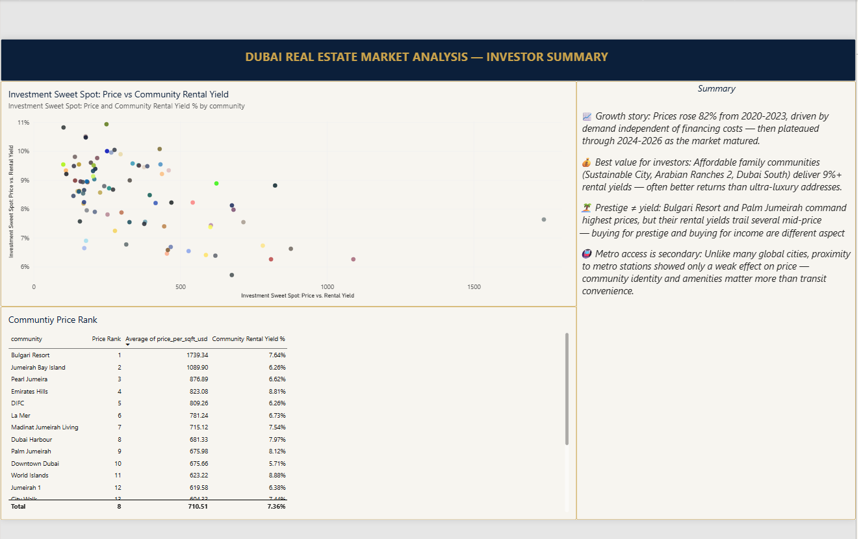

The dashboard page shown, as its layout file describes it:
{"tool":"powerbi","page":{"name":"Investor Summary.","canvas":[1920,1080],"ordinal":3},"visuals":[{"type":"scatterChart","title":"Investment Sweet Spot: Price vs Community Rental  Yield","fields":{"Series":["dim_community.community"],"X":["Avg(fact_listings.price_per_sqft_usd)"],"Y":["fact_listings.Community Rental Yield %"]},"box":[0,0,1292.6,601.1],"z":0},{"type":"tableEx","title":"Communtiy Price Rank","fields":{"Values":["dim_community.community","fact_listings.Community Price Rank","Avg(fact_listings.price_per_sqft_usd)","fact_listings.Community Rental Yield %"]},"box":[0,601.1,1292.6,478.5],"z":1000},{"type":"textbox","box":[1292.6,0,627.4,601.1],"z":2000},{"type":"lineChart","fields":{"Category":["fact_listings.to_burj_khalifa_km"],"Y":["Avg(fact_listings.price_per_sqft_usd)"]},"box":[1292.6,601.1,627.4,478.5],"z":3000}]}

Visuals, with their boxes on the page's 1920x1080 design canvas (x1, y1, x2, y2). These are canvas units, not pixel positions in the 858x539 screenshot, which may show the page scaled, cropped or inside an application window:
"Investment Sweet Spot: Price vs Community Rental  Yield" scatterChart: rect(0, 0, 1293, 601)
"Communtiy Price Rank" tableEx: rect(0, 601, 1293, 1080)
textbox: rect(1293, 0, 1920, 601)
lineChart - fact_listings.to_burj_khalifa_km x Avg(fact_listings.price_per_sqft_usd): rect(1293, 601, 1920, 1080)
